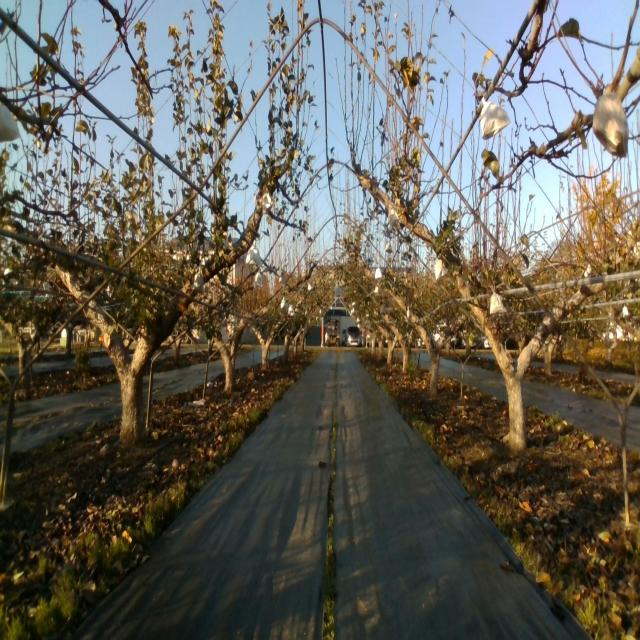pearbags: (591, 89, 629, 156), (481, 94, 511, 141), (490, 284, 507, 316), (245, 237, 262, 266), (434, 254, 449, 280), (261, 188, 273, 215), (192, 270, 204, 294), (388, 206, 398, 230)
